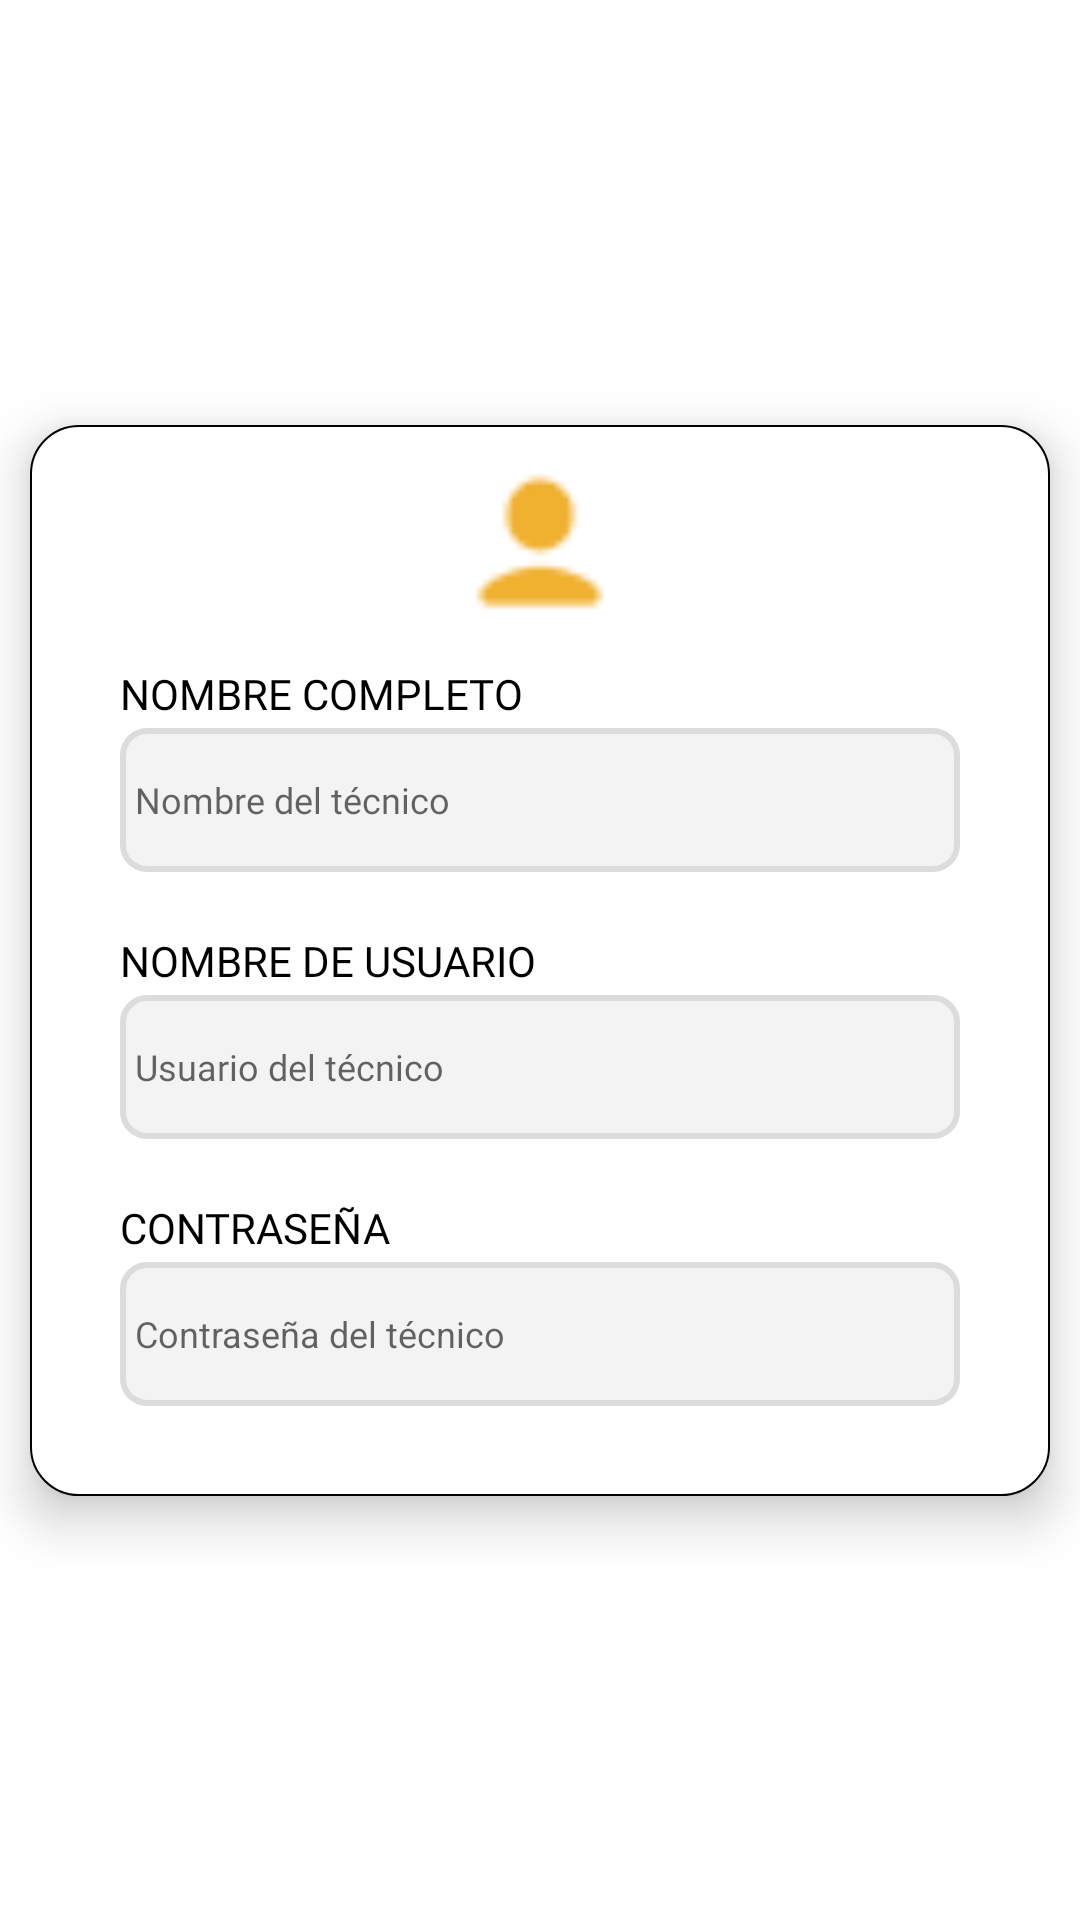

Point at icon controls on the screen. Image size 1080×1920, points as [x,y].
perfil: [540,542]
